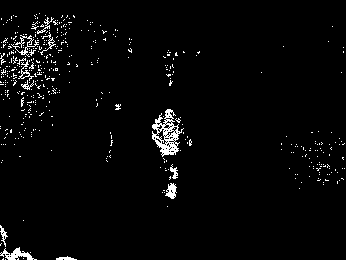person: (152, 107, 190, 201)
